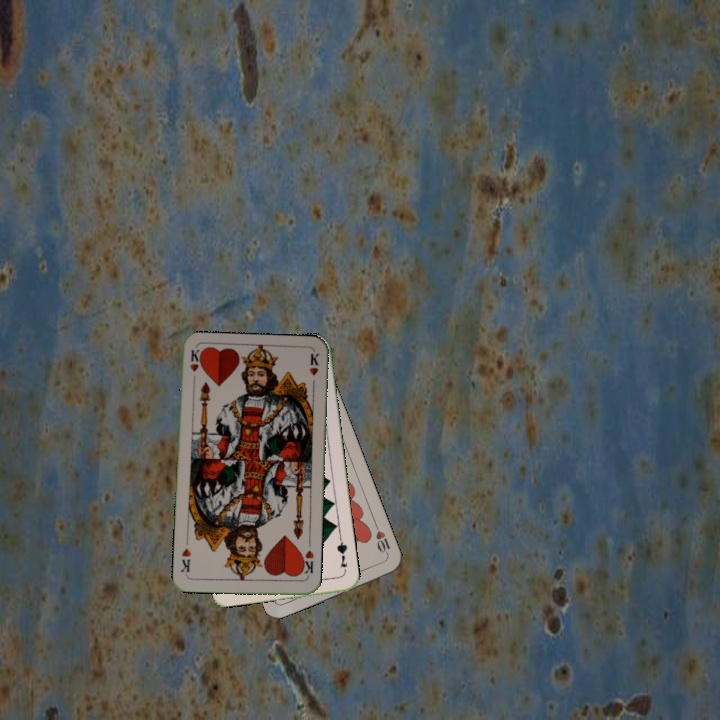G7: (333, 535, 350, 576)
H10: (371, 520, 393, 560)
HK: (186, 347, 203, 387), (297, 546, 316, 580)
